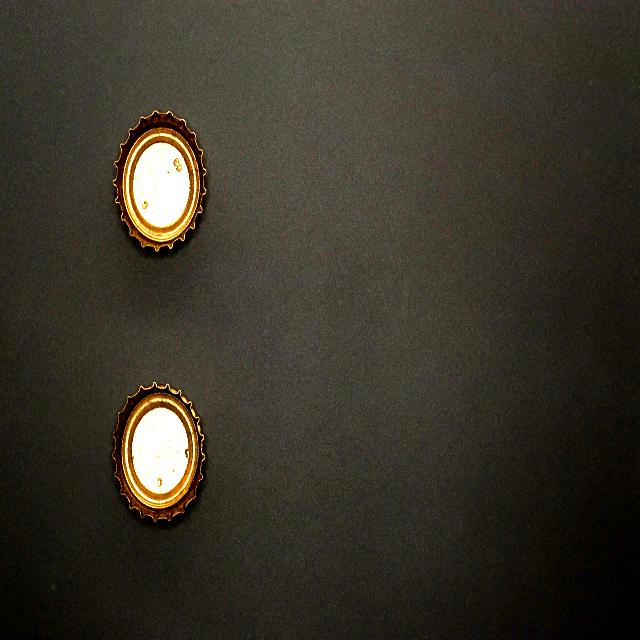Metal: (110, 380, 208, 530), (111, 106, 208, 257)
